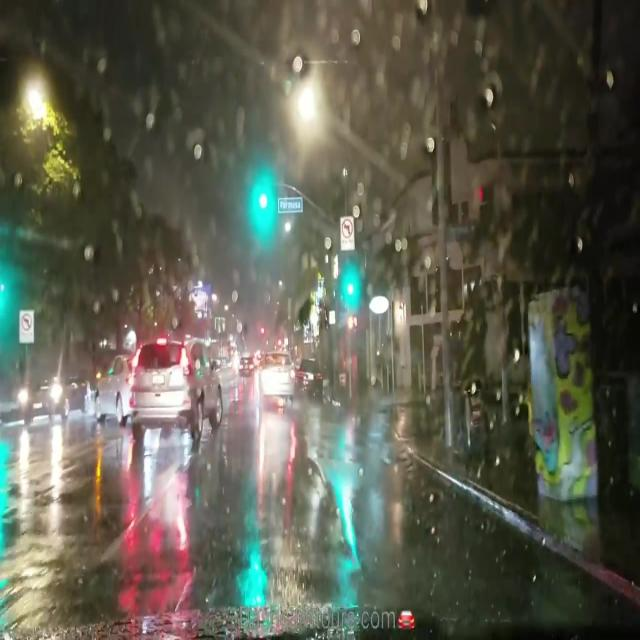Car: (125, 332, 227, 459), (18, 368, 89, 422), (92, 352, 126, 429), (254, 349, 291, 396), (297, 354, 322, 401)
